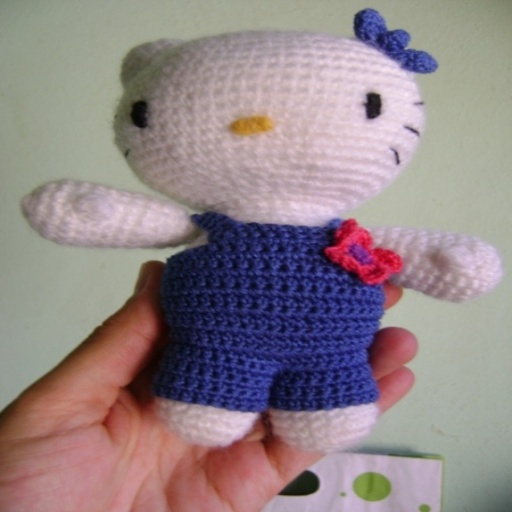hand: (0, 256, 419, 510)
